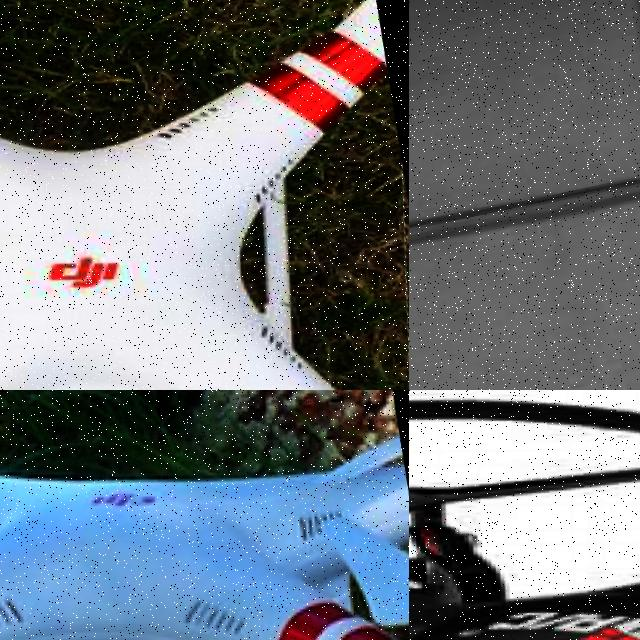0: (0, 0, 409, 390), (0, 390, 409, 640)
drone: (409, 390, 640, 640)
